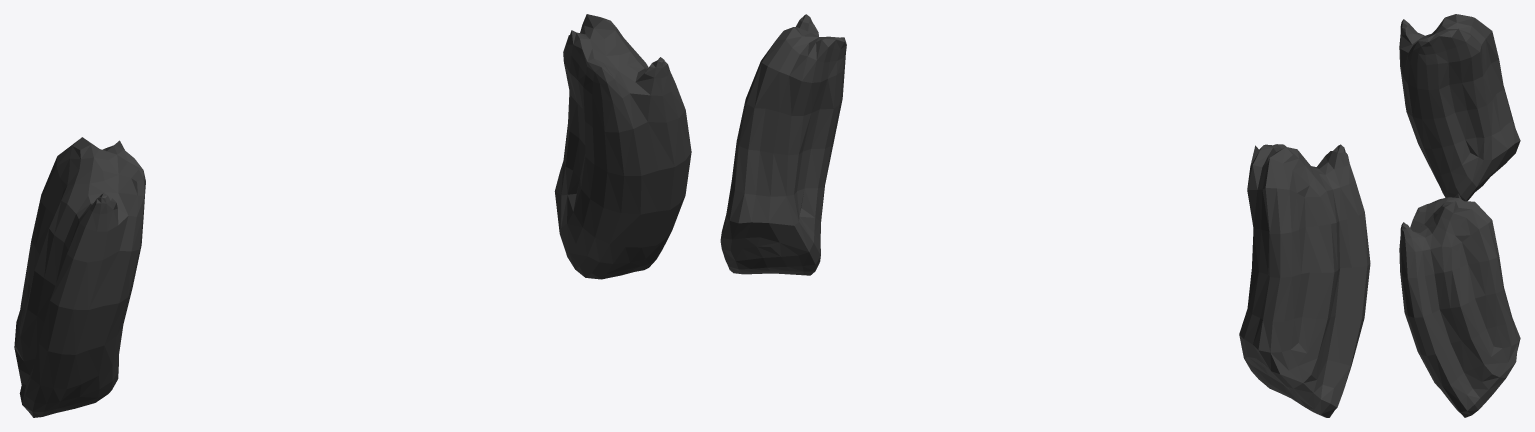
Rendered from R_max_M3_LO.glb.
The picture shows the model from 3 angles, left to right: view 1: azimuth 30°, elevation 25°; view 2: azimuth 150°, elevation 25°; view 3: azimuth 270°, elevation 25°; orthographic projection. The views are drawn at different scales.
Parts seen in each view (by area): view 1: R_max_M3_LO; view 2: R_max_M3_LO; view 3: R_max_M3_LO.
Part boxes in pixels (<box>): R_max_M3_LO: <box>14,14,691,417</box>; R_max_M3_LO: <box>720,14,1370,417</box>; R_max_M3_LO: <box>1399,14,1520,417</box>.
Bounding box in the file's own units: 0.00127 × 0.0005 × 0.000277.
1 material, 1 textured.
